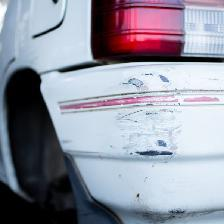bumper_scratch: (102, 60, 198, 175)
